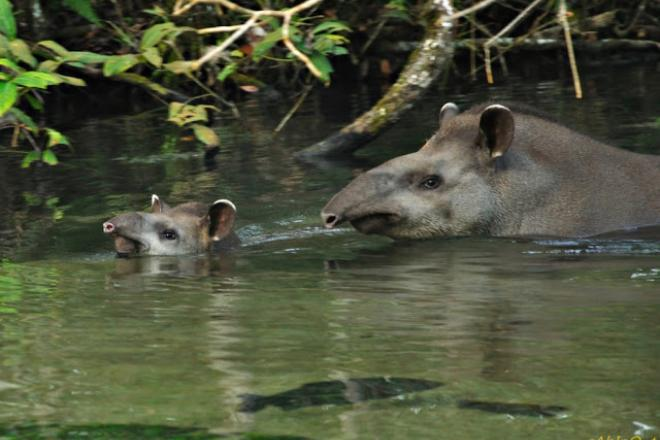Anta: (314, 89, 656, 252), (98, 180, 260, 266)
